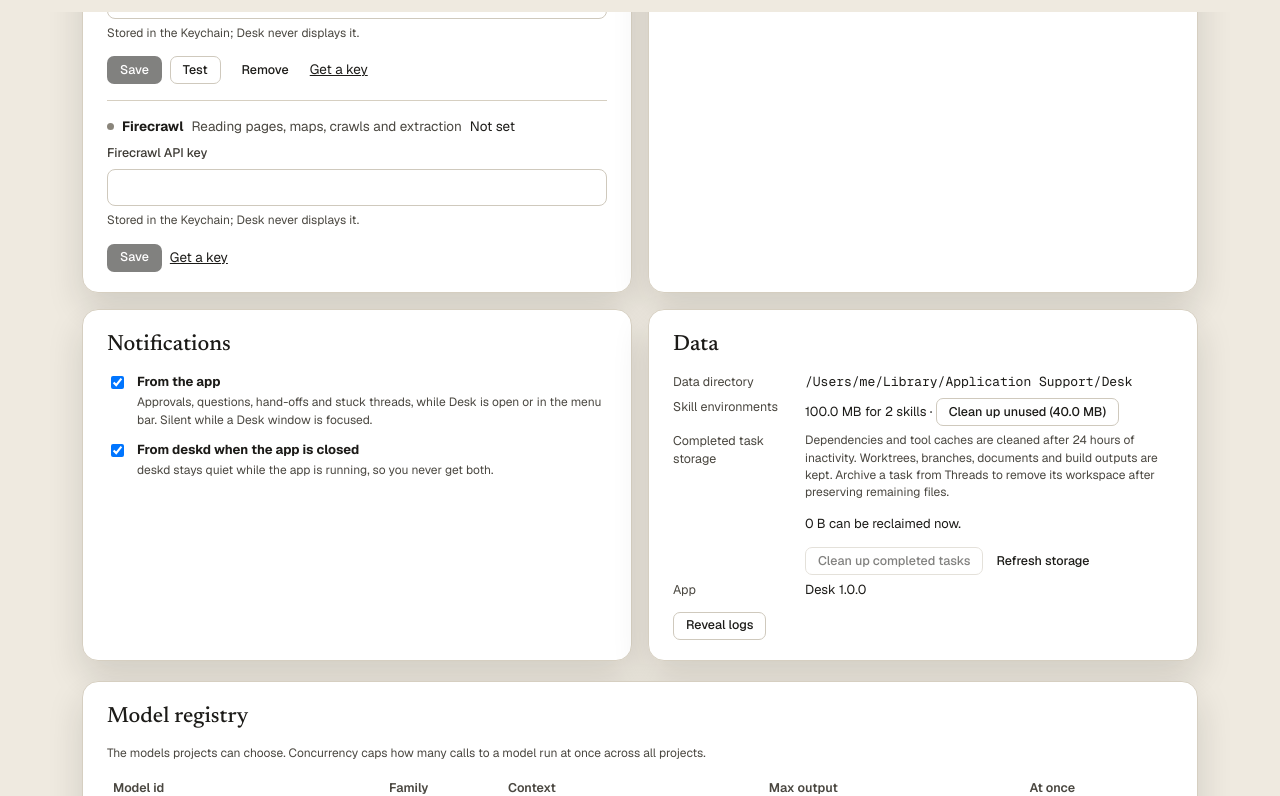
it: SystemScreen › reports skill environments and cleans up the unused ones
(page scrolled)
Expected: the text "100.0 MB for 2 skills · Clean up unused (40.0 MB)" is shown, [805,398,1119,426]
Click the button "Clean up unused (40.0 MB)": click(1027, 412) [936,398,1119,426]
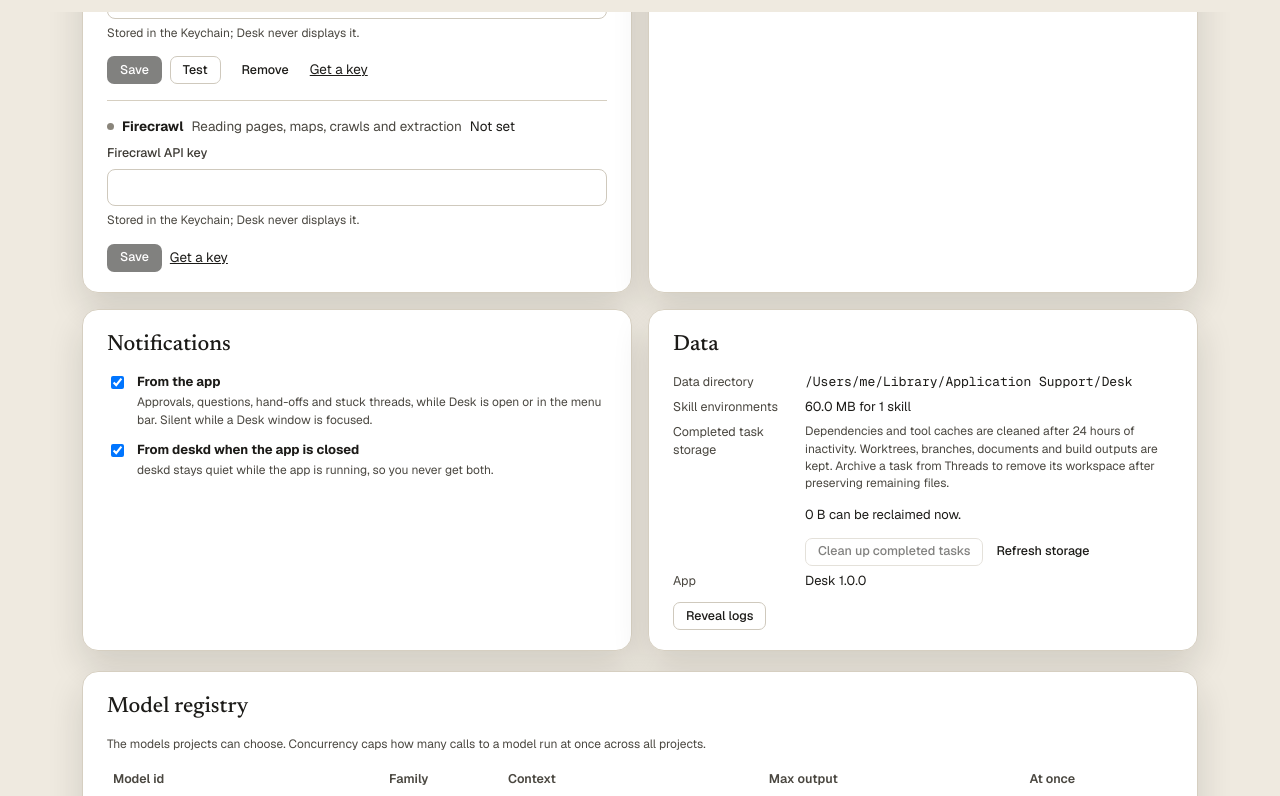
Now the text "60.0 MB for 1 skill" is shown, box [805,398,911,417]
Now the button "Clean up unused" is gone
